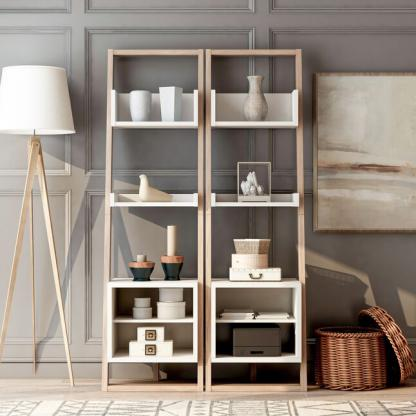lamp: (205, 49, 309, 394), (102, 47, 204, 394)
